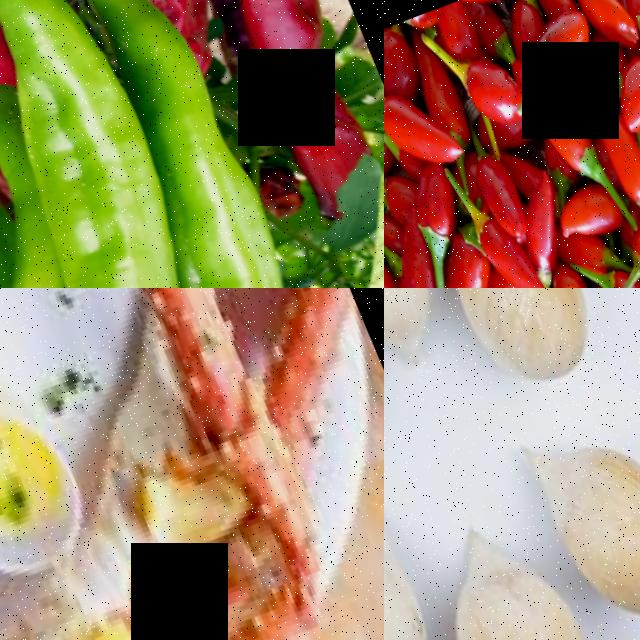chilli: (73, 0, 297, 288), (0, 0, 194, 288), (206, 0, 384, 185), (571, 63, 640, 220)
coconut: (406, 501, 623, 640), (523, 409, 640, 638), (423, 288, 618, 403), (384, 494, 460, 640)
crab: (115, 288, 322, 565), (79, 565, 384, 640)
